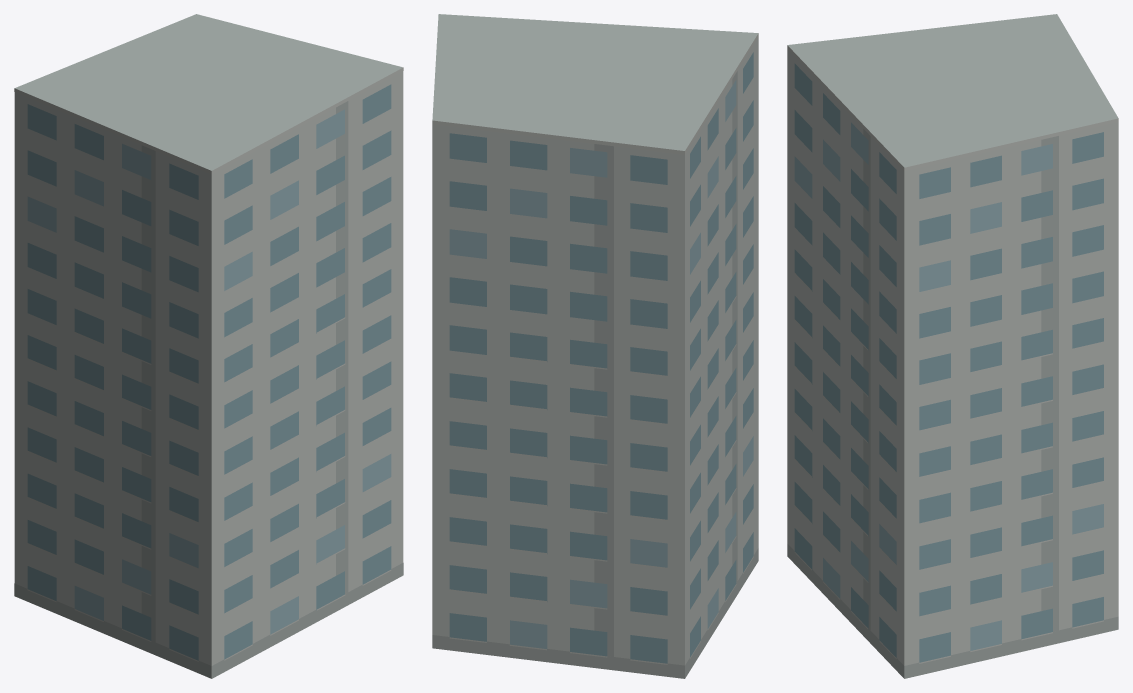
The model's file is residential-5b65be17-2405-49d7-b648-87d742cc353a.glb.
The picture shows the model from 3 angles, left to right: view 1: azimuth 30°, elevation 25°; view 2: azimuth 150°, elevation 25°; view 3: azimuth 270°, elevation 25°; orthographic projection. The views are drawn at different scales.
Visible parts, largest first — view 1: residential-5b65be17-2405-49d7-b648-87d742cc353a.tmp; view 2: residential-5b65be17-2405-49d7-b648-87d742cc353a.tmp; view 3: residential-5b65be17-2405-49d7-b648-87d742cc353a.tmp.
Part boxes in pixels (x1=…): residential-5b65be17-2405-49d7-b648-87d742cc353a.tmp: x1=14, y1=14, x2=403, y2=678; residential-5b65be17-2405-49d7-b648-87d742cc353a.tmp: x1=432, y1=14, x2=758, y2=678; residential-5b65be17-2405-49d7-b648-87d742cc353a.tmp: x1=787, y1=14, x2=1118, y2=678.
Size of the model in its own units: 21.93 by 34 by 19.98.
